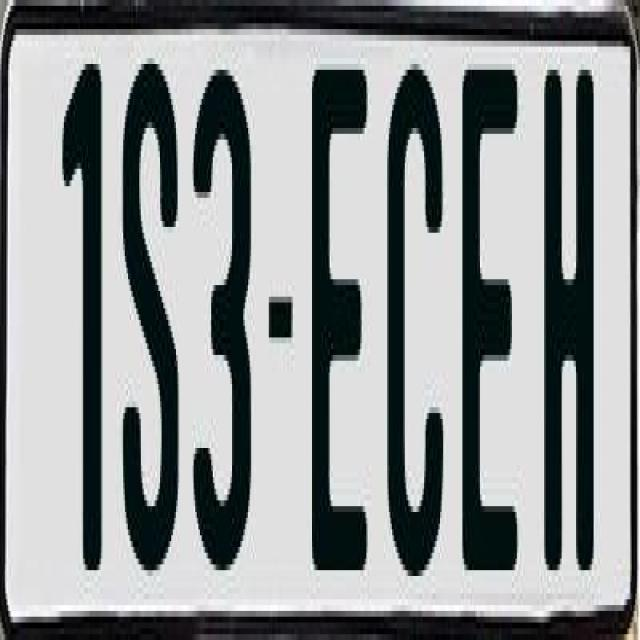1: (61, 64, 102, 605)
3: (193, 70, 260, 606)
C: (386, 52, 448, 594)
E: (307, 58, 365, 582), (462, 58, 520, 576)
H: (540, 58, 590, 570)
S: (119, 46, 178, 588)
